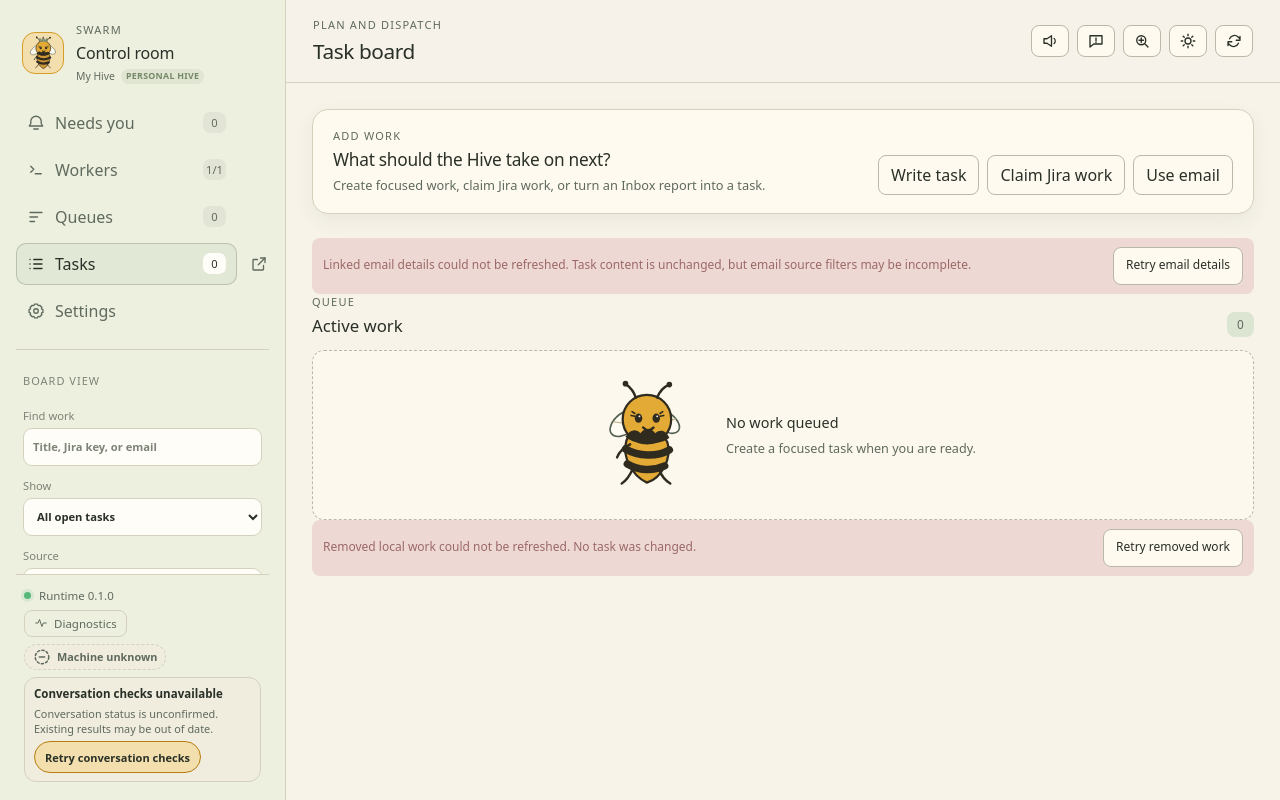
Test: does not invent a Queen request that was never filed
This screenshot has width=1280, height=800.
Click the button "Needs you 0": (126, 122) [16,102,237,144]
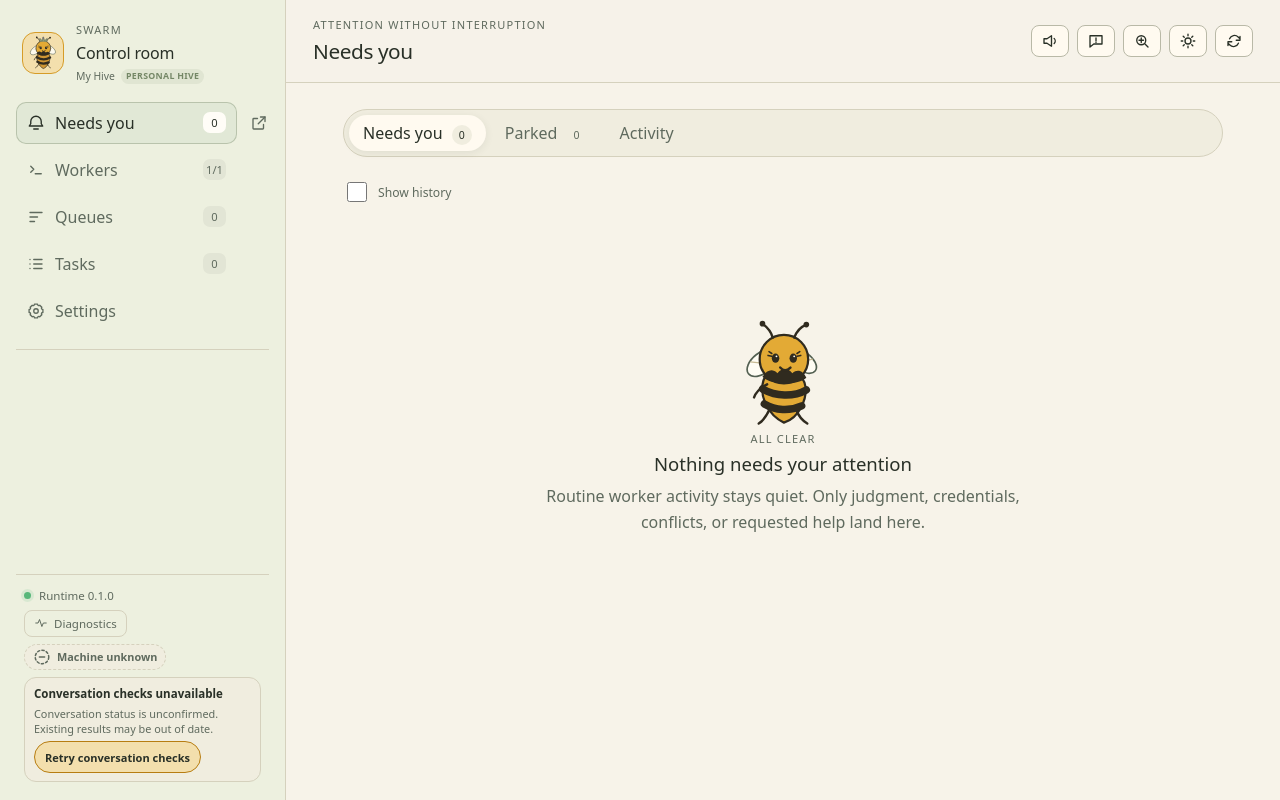
Now the heading "Nothing needs your attention" is shown, box [654,451,912,476]
